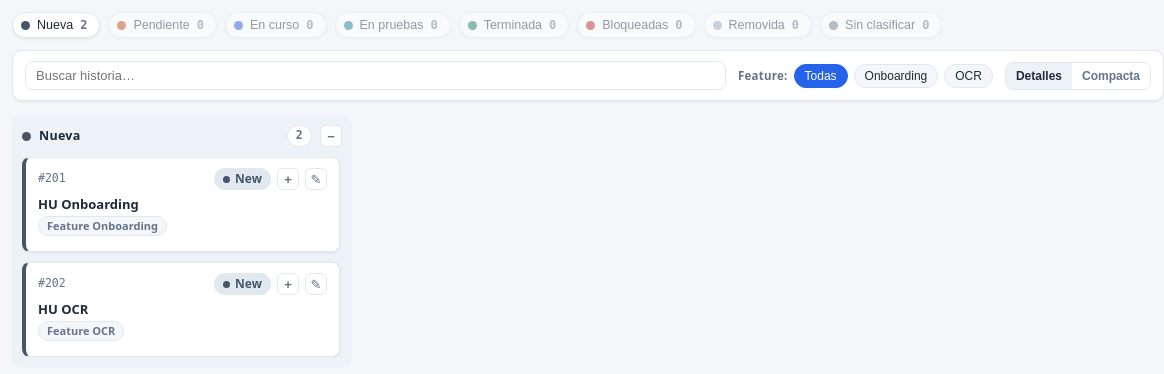
Scenario: TableroHistorias › filtra por feature
Click the button "Onboarding". click: (896, 76)
box: [854, 64, 938, 88]
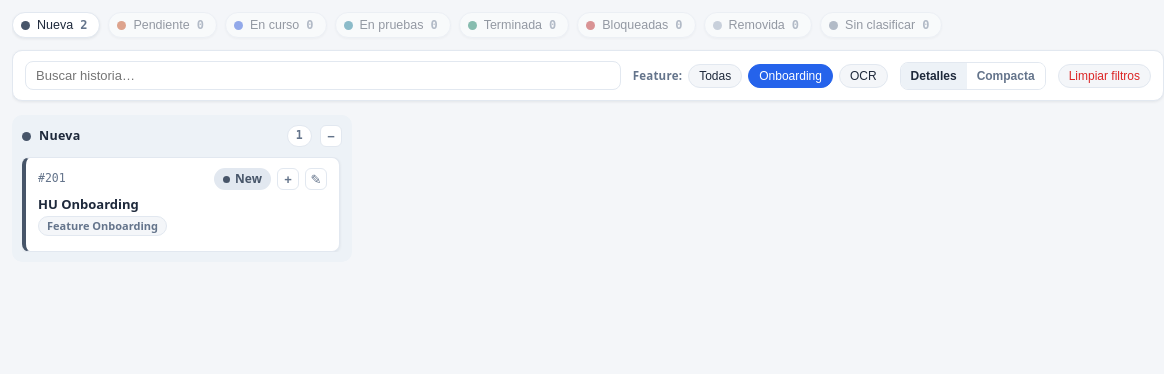
Check: the heading "HU Onboarding" is shown, box [38, 195, 139, 213]
Check: the heading "HU OCR" is gone
